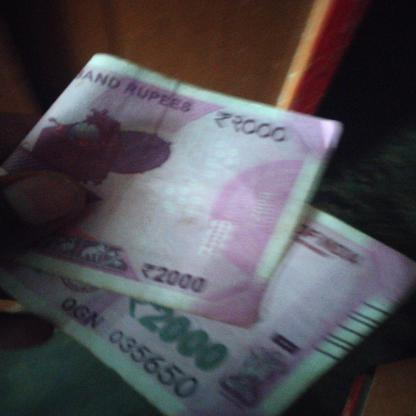New2000Back: (5, 62, 296, 298)
